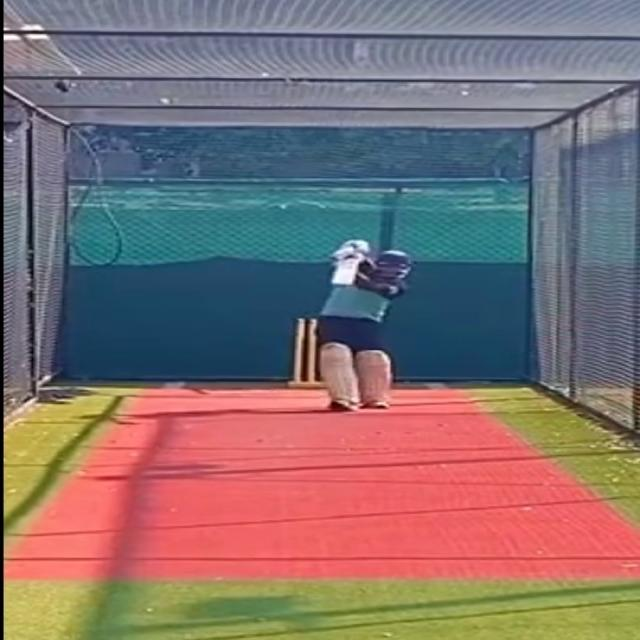stump: (282, 312, 320, 389)
